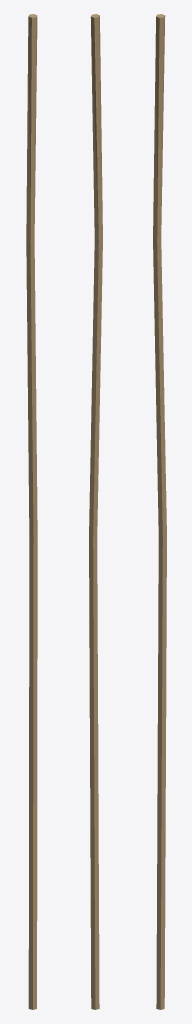
The model's file is Canyon_HangingRope.fbx.
3 views of the same model, side by side, from view 1: azimuth 30°, elevation 25°; view 2: azimuth 150°, elevation 25°; view 3: azimuth 330°, elevation 25° (orthographic).
Visible parts, largest first — view 1: Canyon_HangingRope; view 2: Canyon_HangingRope; view 3: Canyon_HangingRope.
Part boxes in pixels (x1,y1,x2,y2): Canyon_HangingRope: (26,14,37,1009); Canyon_HangingRope: (89,14,102,1009); Canyon_HangingRope: (153,14,166,1009).
Size of the model in its own units: 0.107 by 8 by 0.0806.
